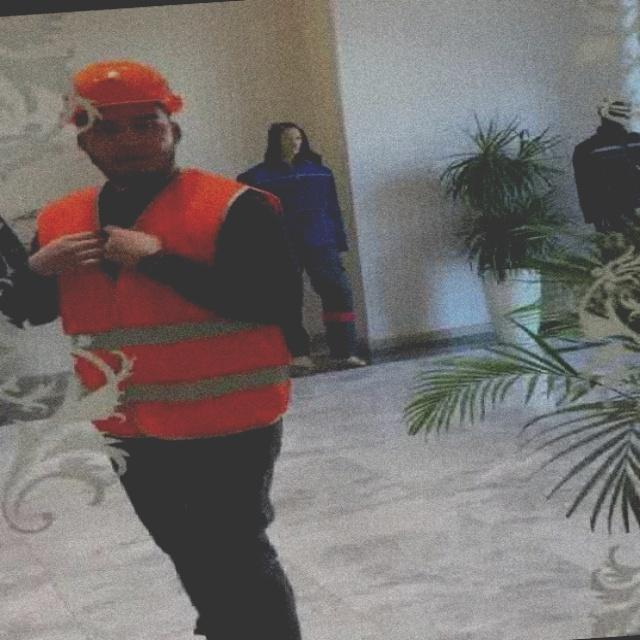helmet: (51, 56, 200, 118)
safety_vest: (34, 167, 302, 440)
